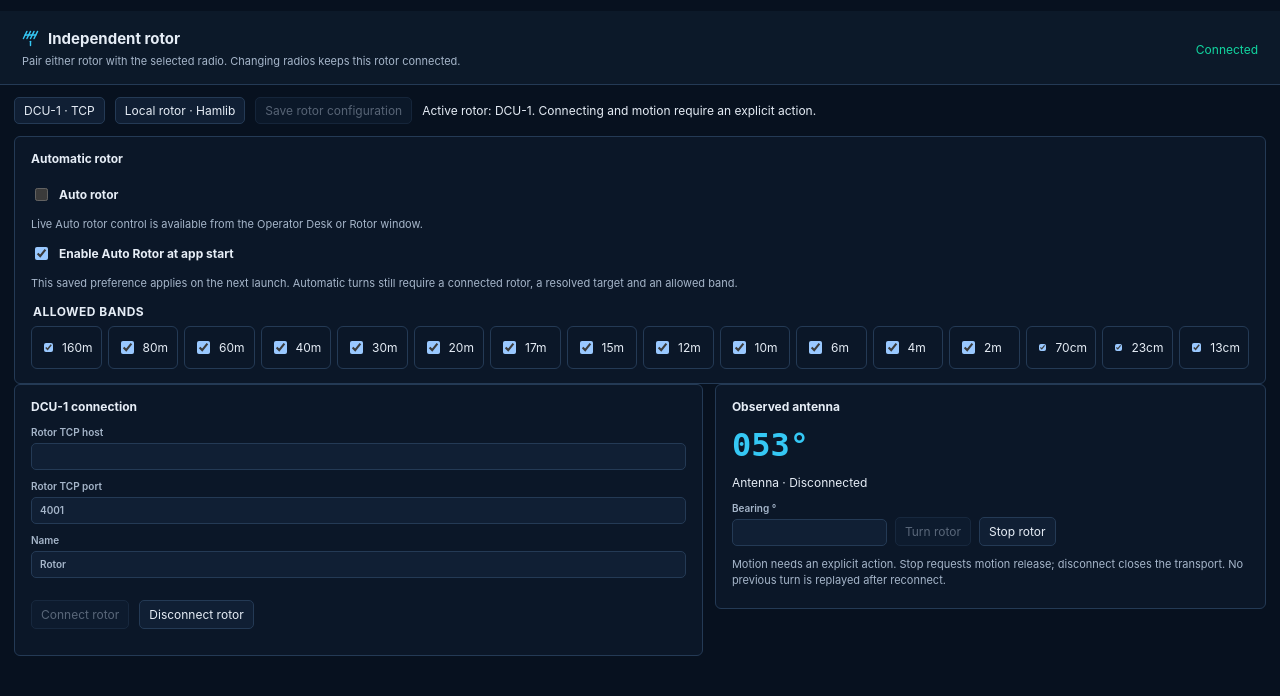
Test: independent rotor panel › browses and retains both connection drafts without disconnecting, moving, or disarming auto
In the field labelled "Rotor TCP host": (358, 456) [31,442,686,470], type "unsaved-rotor.example.invalid"
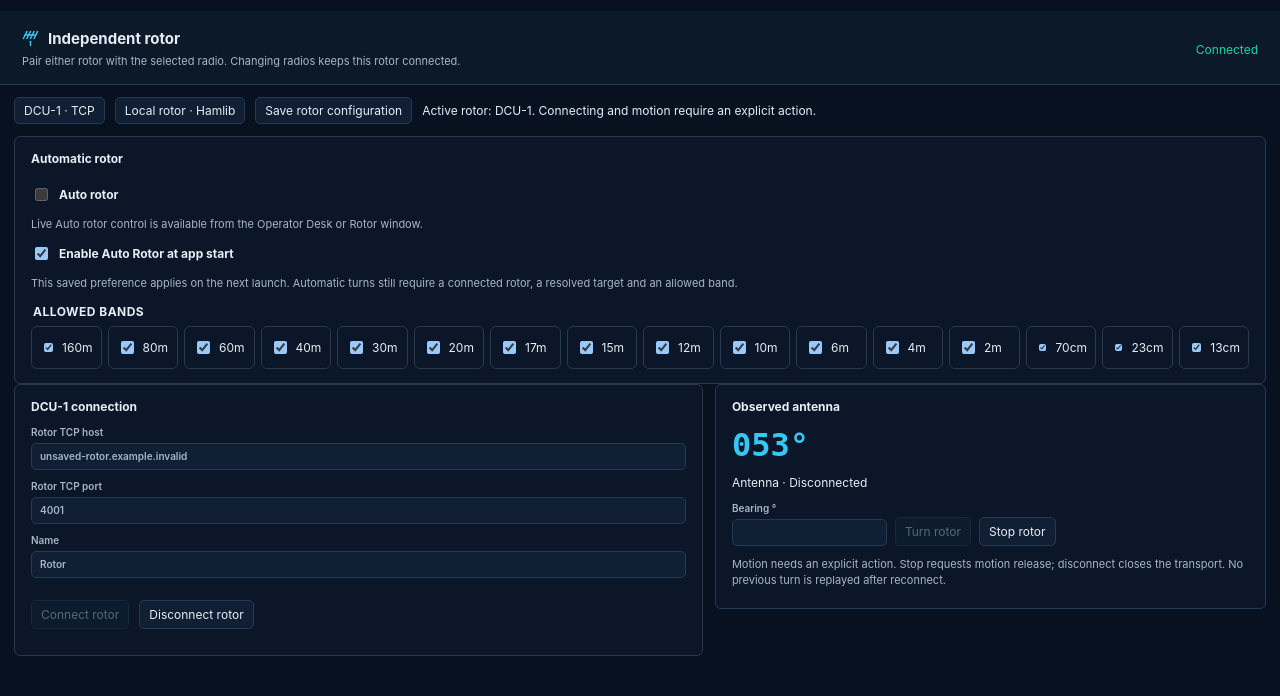
Click the button "Local rotor · Hamlib": click(180, 110) [115,96,245,124]
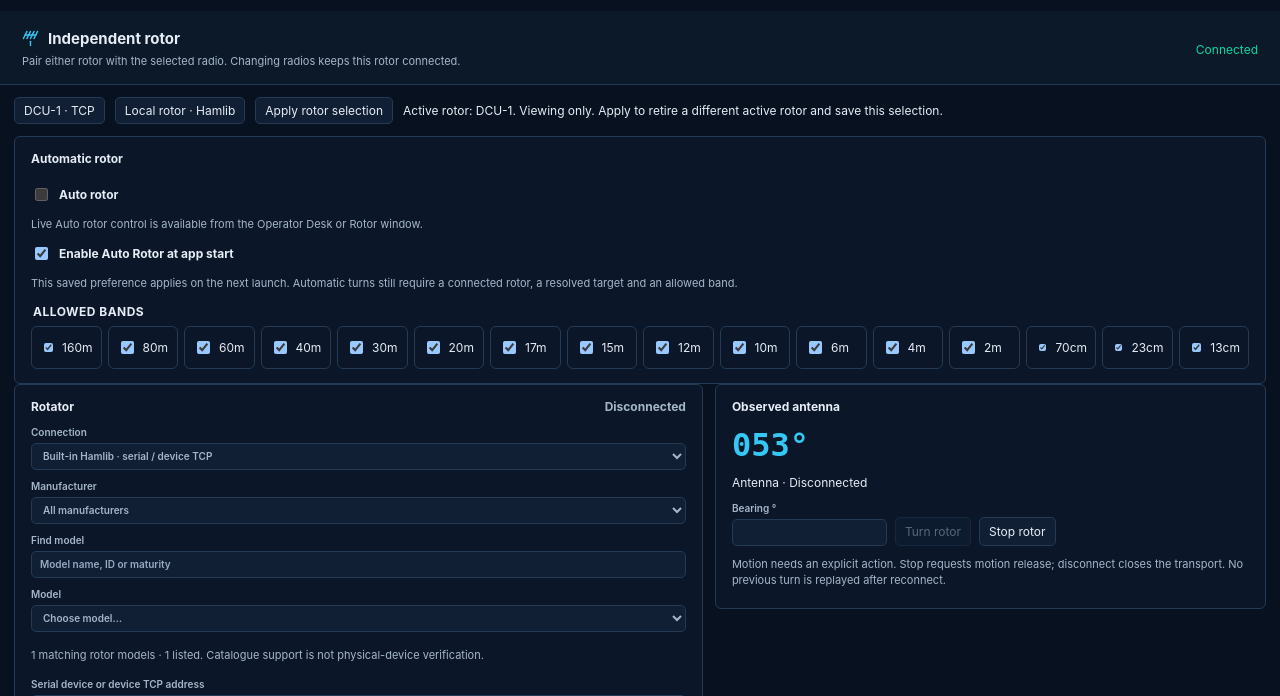
Select "Hamlib Dummy · 1 · Stable" in the dropdown named "Rotor model": (358, 618) [31,604,686,632]
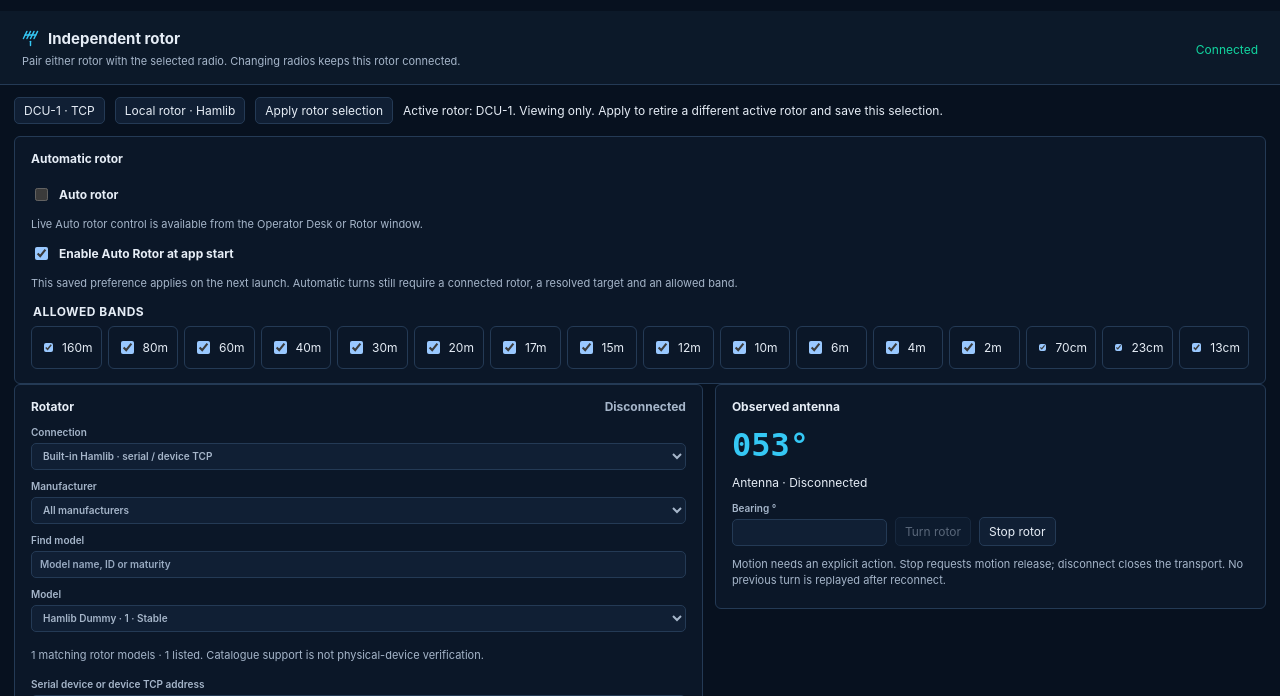
Click the button "DCU-1 · TCP": click(59, 110) [14,96,105,124]
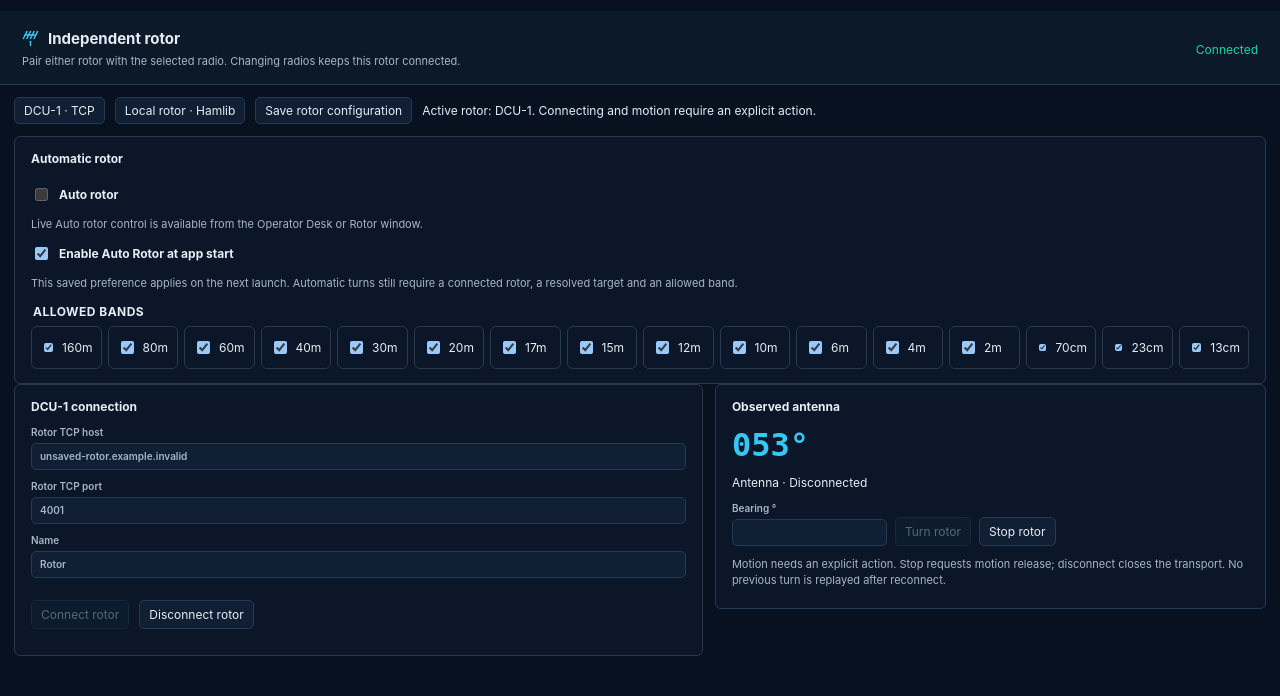
Click the button "Local rotor · Hamlib": click(180, 110) [115,96,245,124]
(page scrolled)
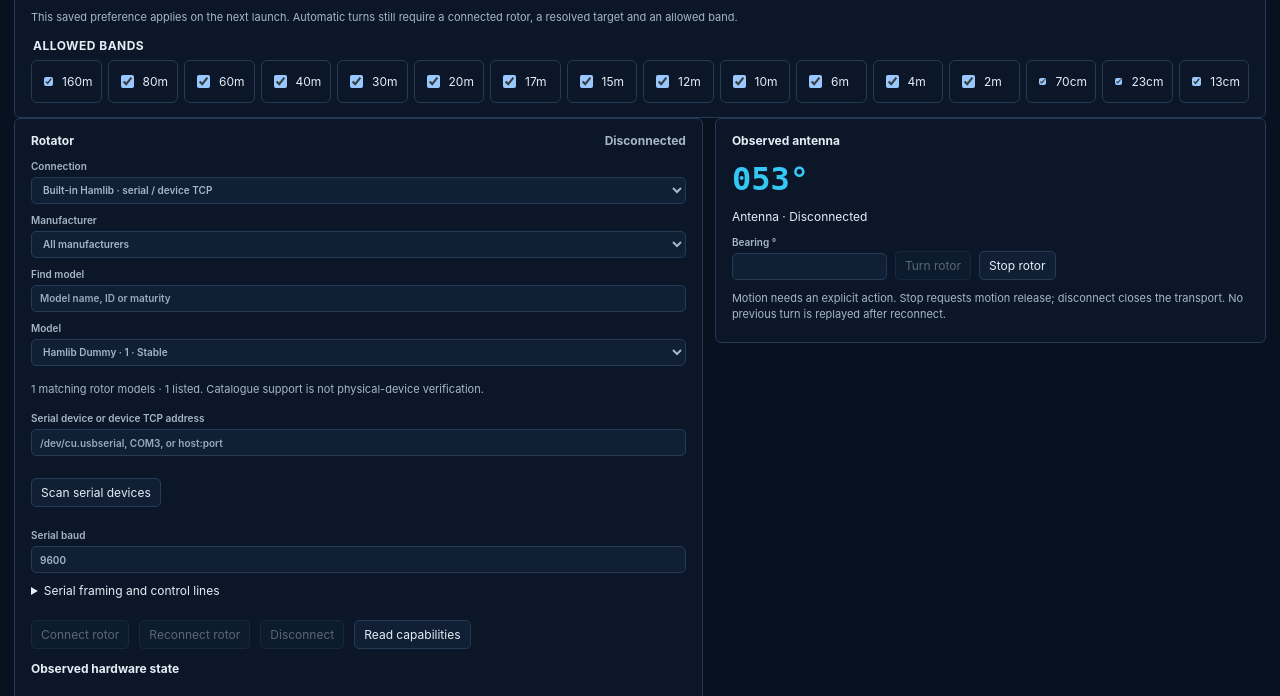
Expected: the button "Reconnect rotor" is disabled, [139,620,250,649]
